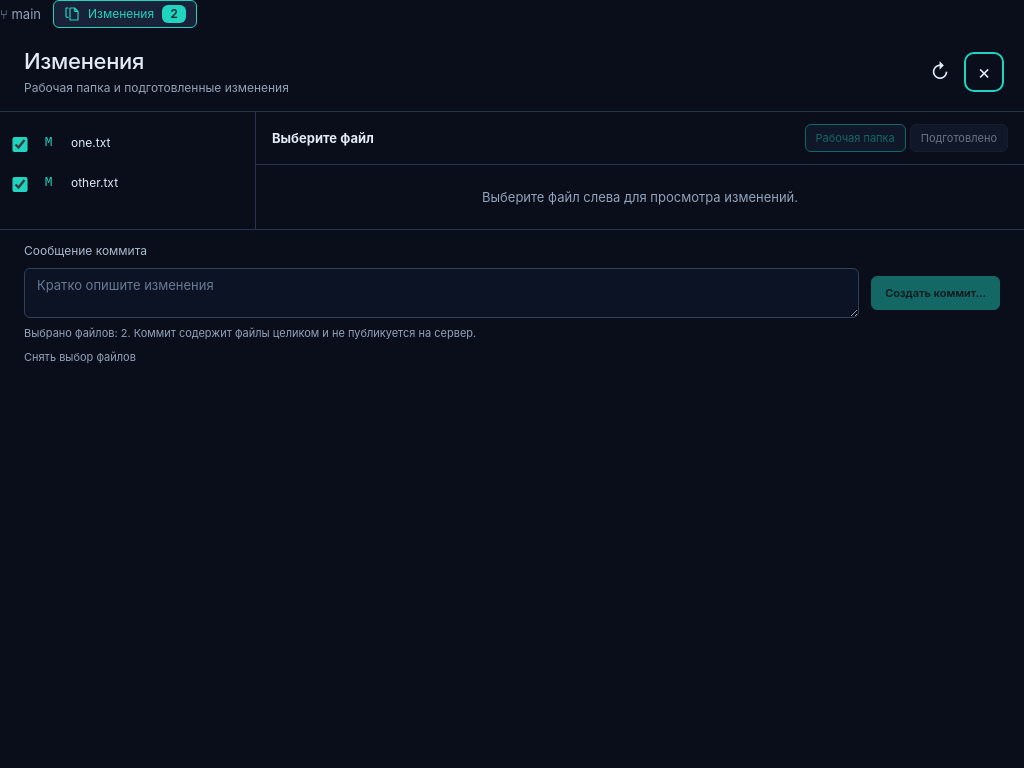
Scenario: previews only checked whole files and commits only after explicit confirmation
The image size is (1024, 768).
Click the checkbox named "Выбрать файл: other.txt" at x=20, y=184, box x1=12 y1=176 x2=28 y2=192
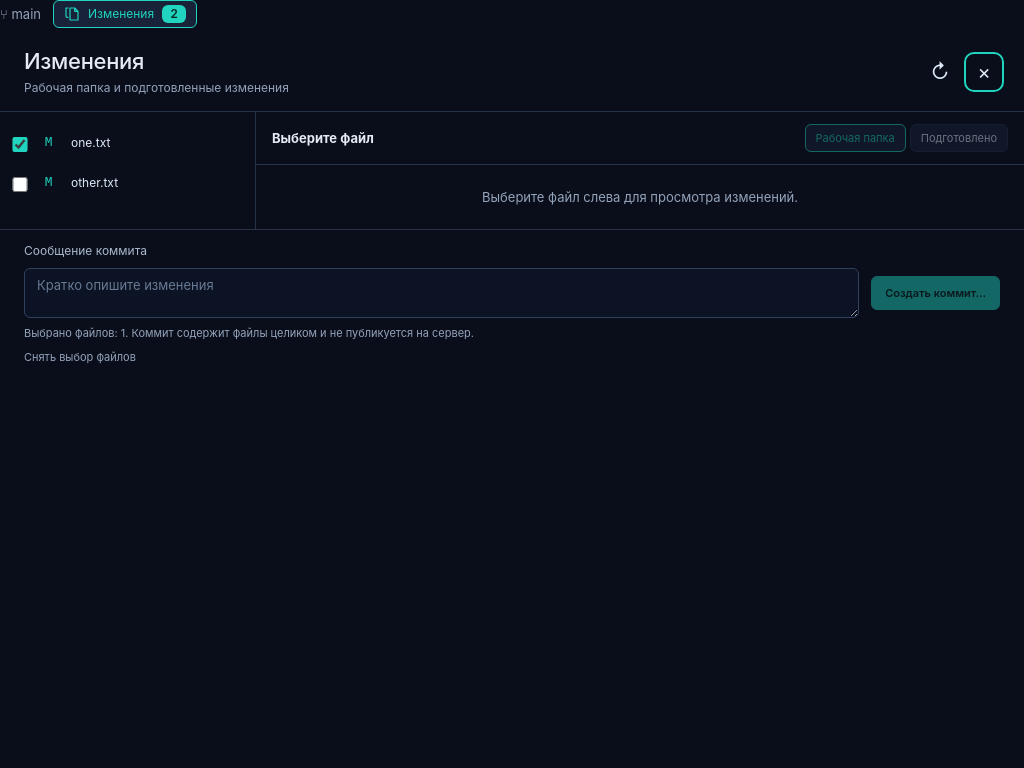
Type "Selected files" into the text box labelled "Сообщение коммита" at x=442, y=293, box x1=24 y1=268 x2=859 y2=318
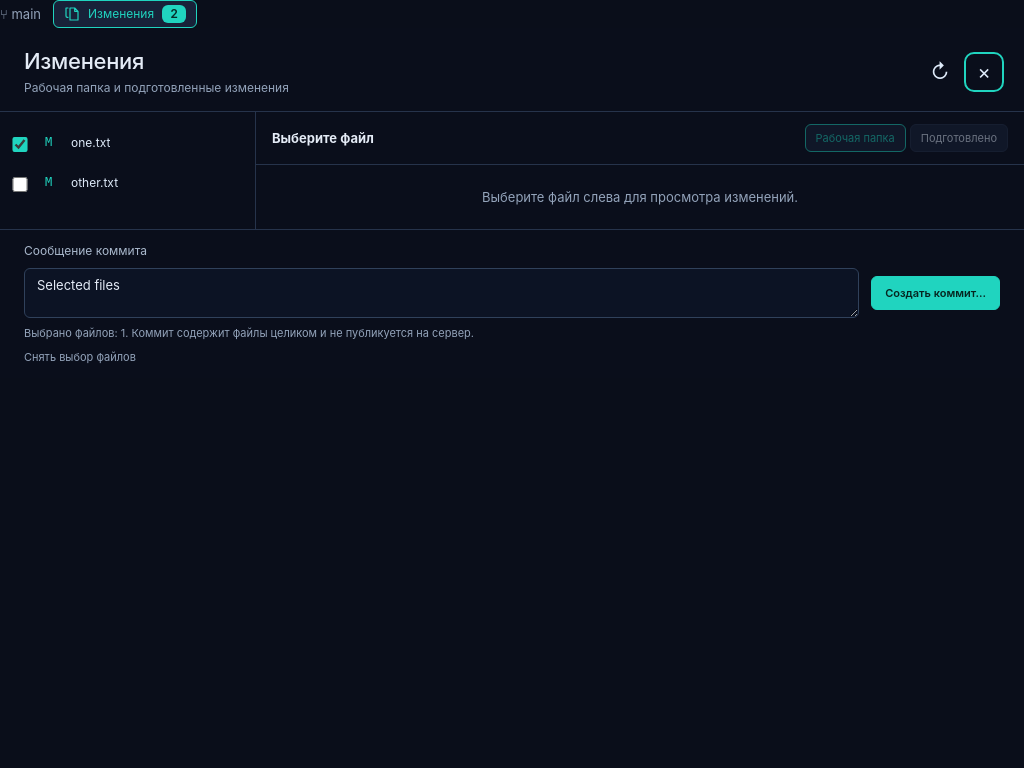
Check: the checkbox named "Выбрать файл: other.txt" is not checked, box x1=12 y1=176 x2=28 y2=192
Click the button "Создать коммит…" at x=936, y=293, box x1=871 y1=276 x2=1000 y2=310
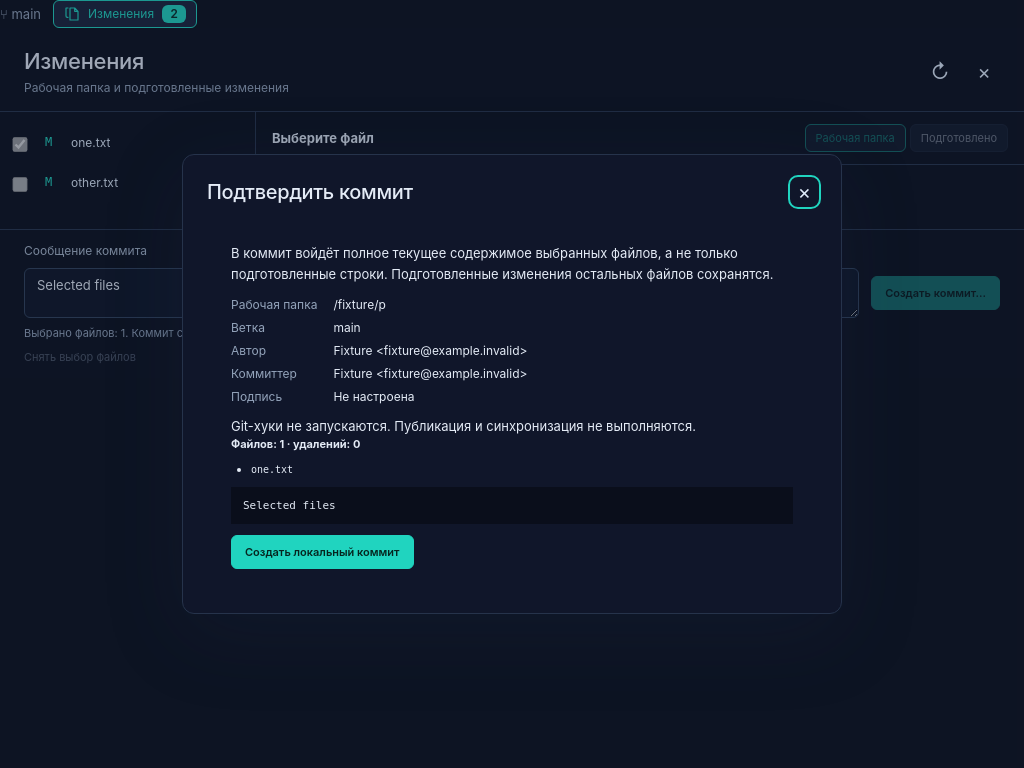
Check: the dialog "Подтвердить коммит" is shown, box x1=182 y1=154 x2=842 y2=614
Check: the text "полное текущее содержимое" is shown, box x1=231 y1=245 x2=773 y2=282
Click the button "Создать локальный коммит" at x=322, y=552, box x1=231 y1=535 x2=414 y2=569
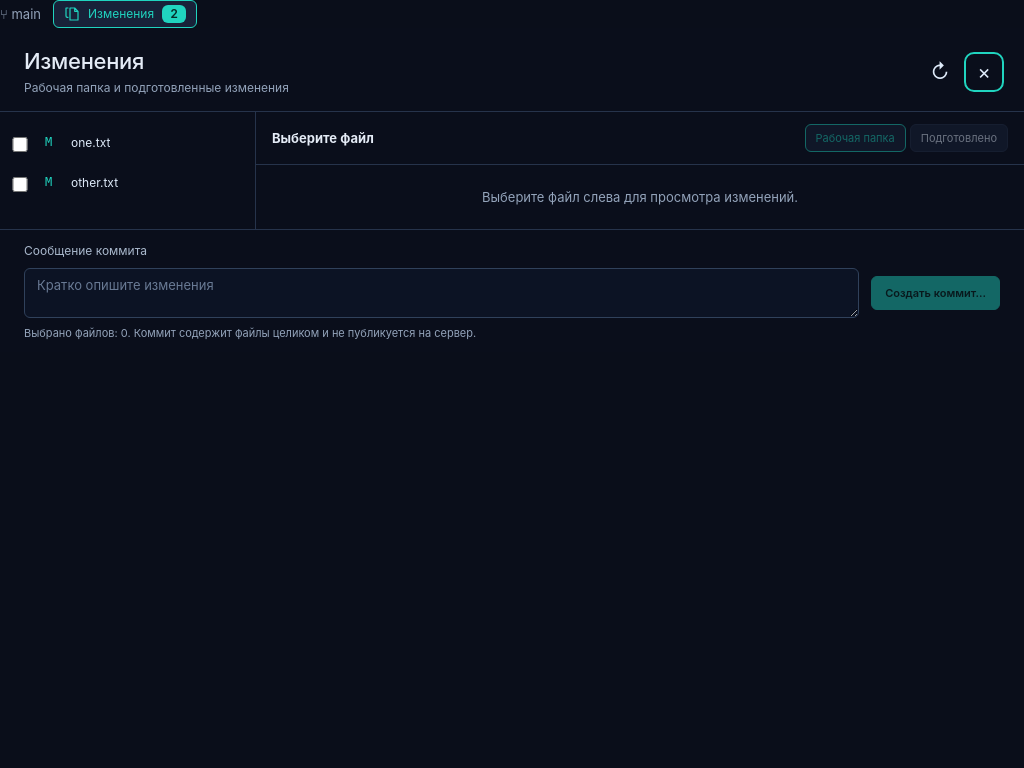
Check: the text box labelled "Сообщение коммита" is empty, box x1=24 y1=268 x2=859 y2=318
Check: the checkbox named "Выбрать файл: one.txt" is not checked, box x1=12 y1=136 x2=28 y2=152
